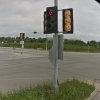Traffic light: (38, 4, 88, 47)
